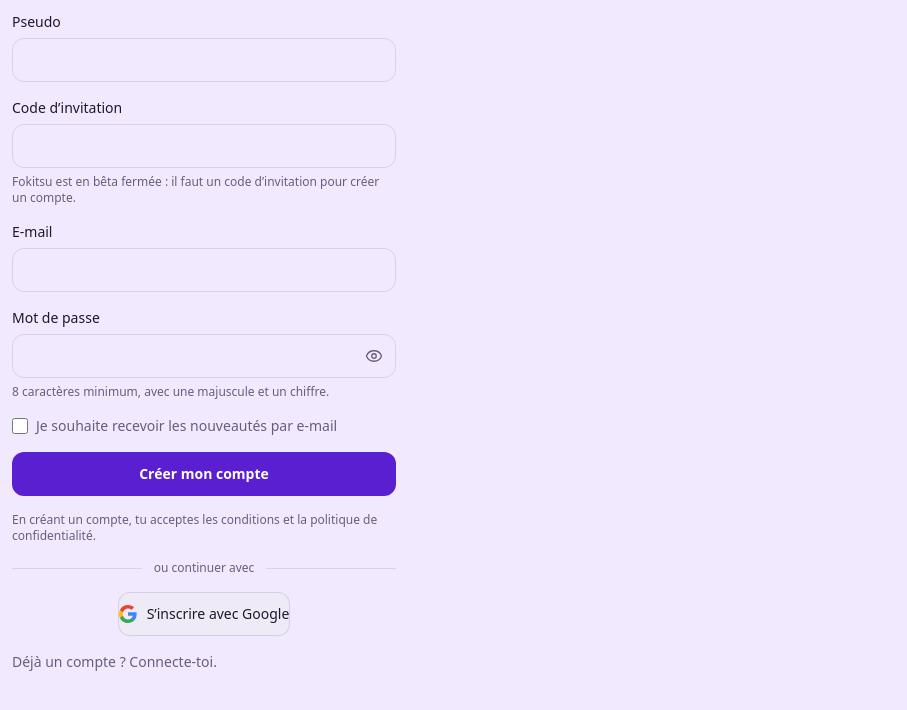
Test: SignUpForm — bêta fermée (code d’invitation) › traduit le refus du serveur en message générique (jamais la raison réelle)
Type "sullivan_97" into the field labelled "Pseudo" at (204,60), box [12, 38, 396, 82]
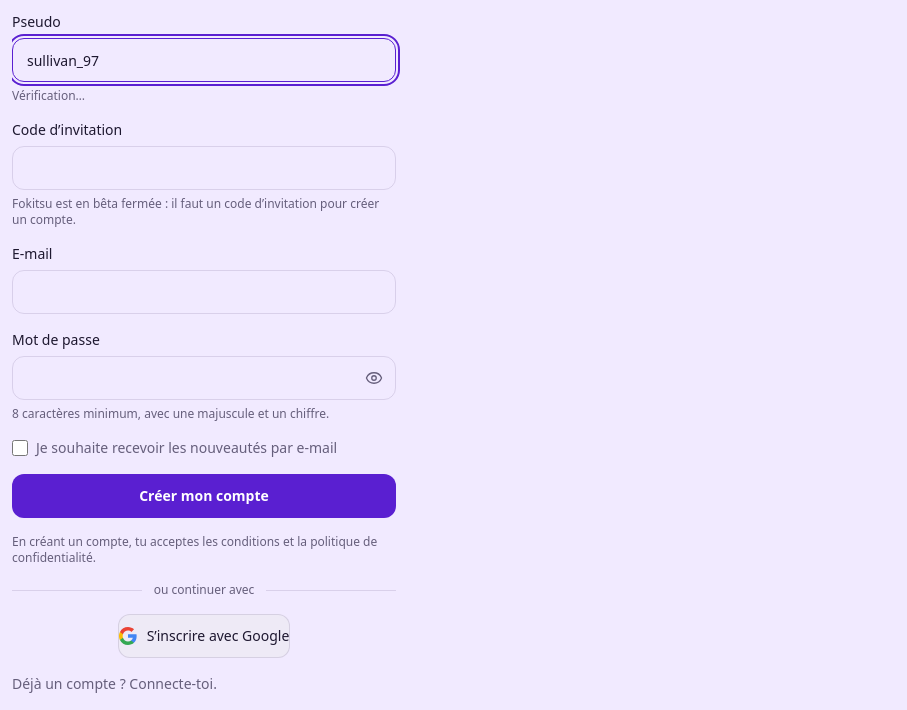
Type "sullivan@exemple.com" into the field labelled "E-mail" at (204,292), box [12, 270, 396, 314]
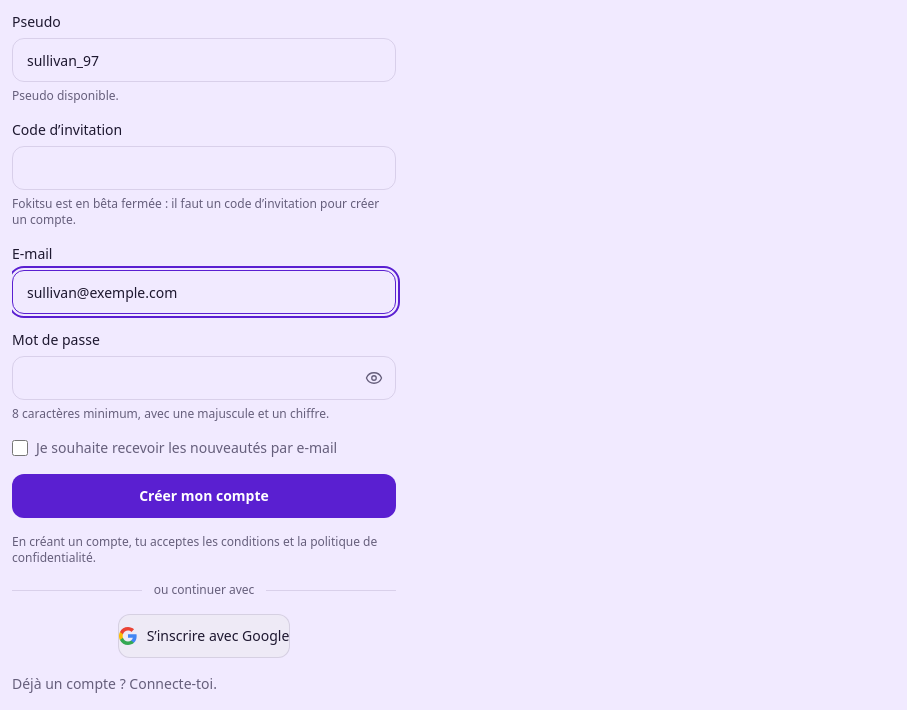
Type "Secret123" into the password field labelled "Mot de passe" at (204,378), box [12, 356, 396, 400]
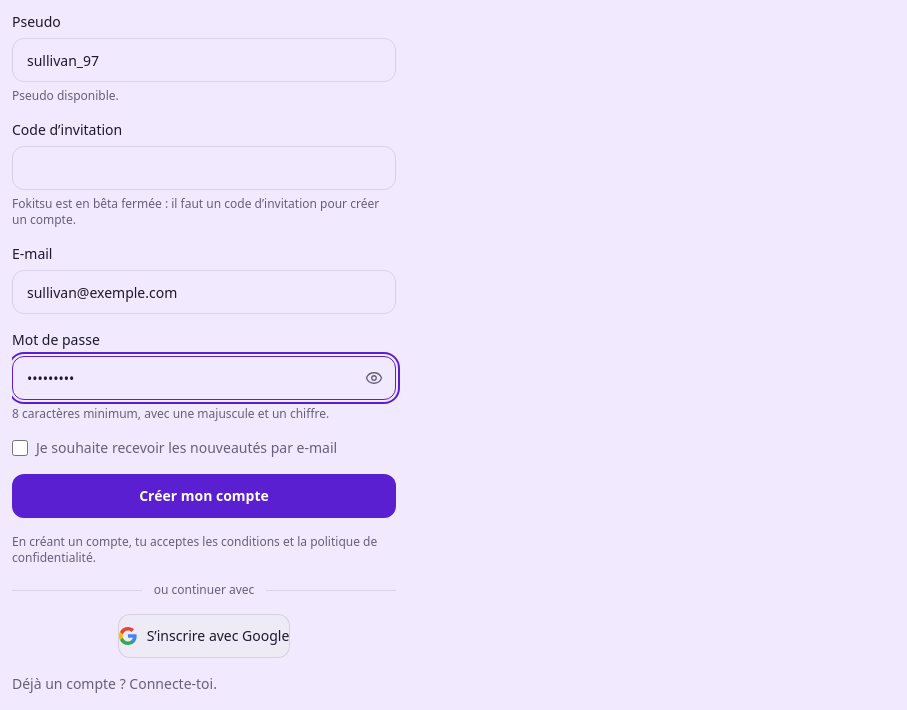
Type "ABCD2345" into the field labelled "Code d’invitation" at (204,168), box [12, 146, 396, 190]
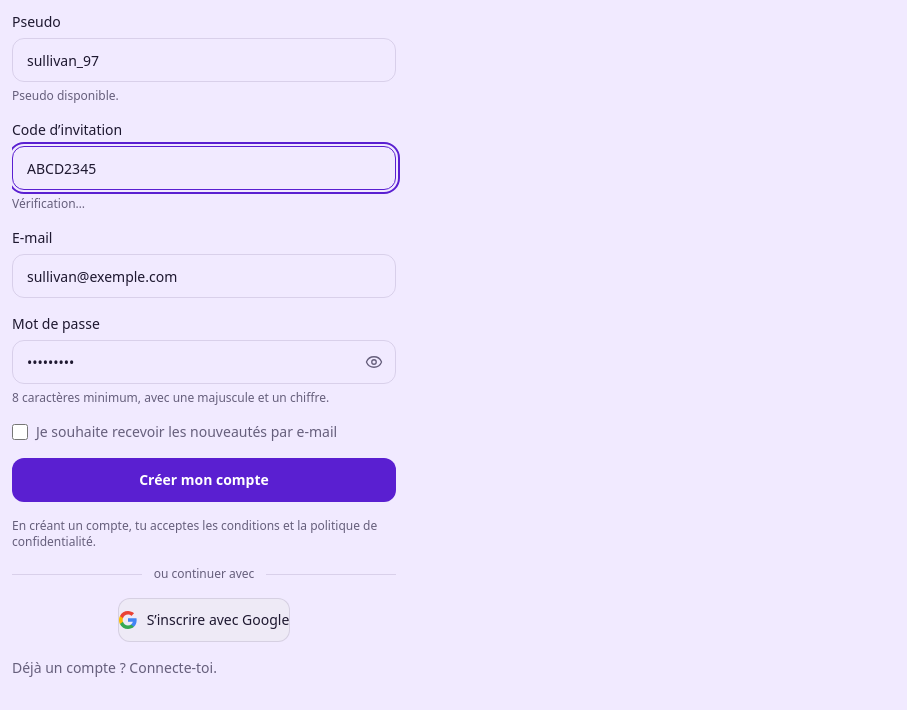
Click the button "Créer mon compte" at (204,480), box [12, 458, 396, 502]
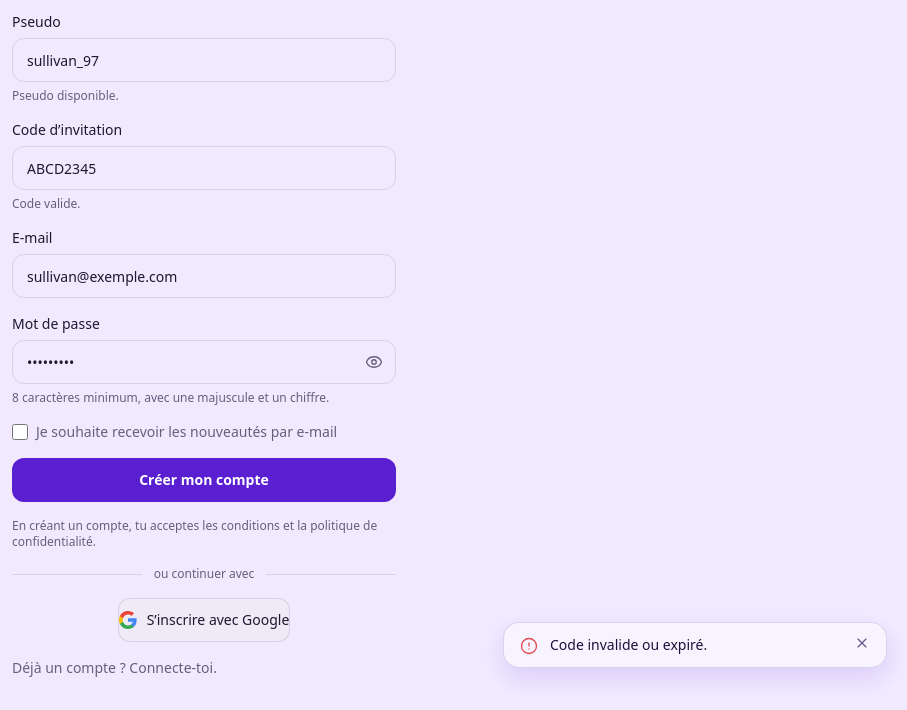
expect the text "Code invalide ou expiré." is shown: met, box [550, 635, 707, 654]
